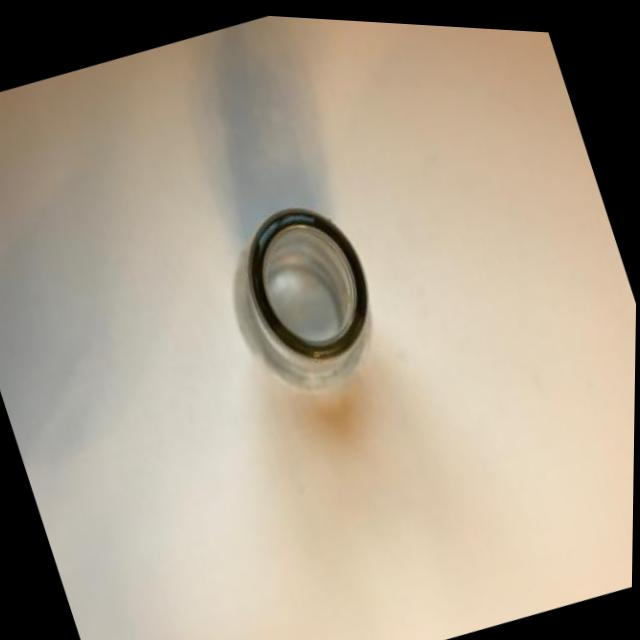metal: (171, 123, 447, 433)
